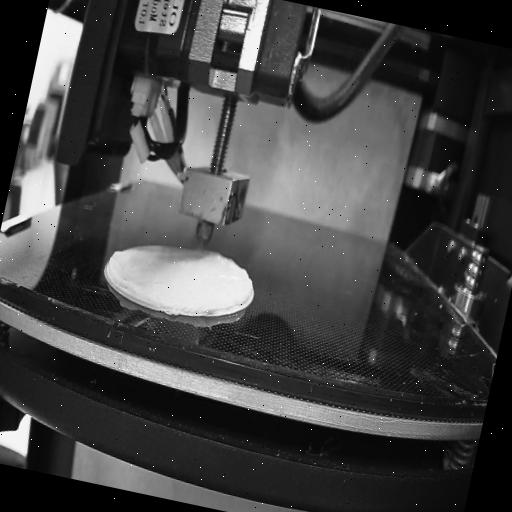over_extrusion: (205, 250, 258, 308), (101, 244, 137, 292)
